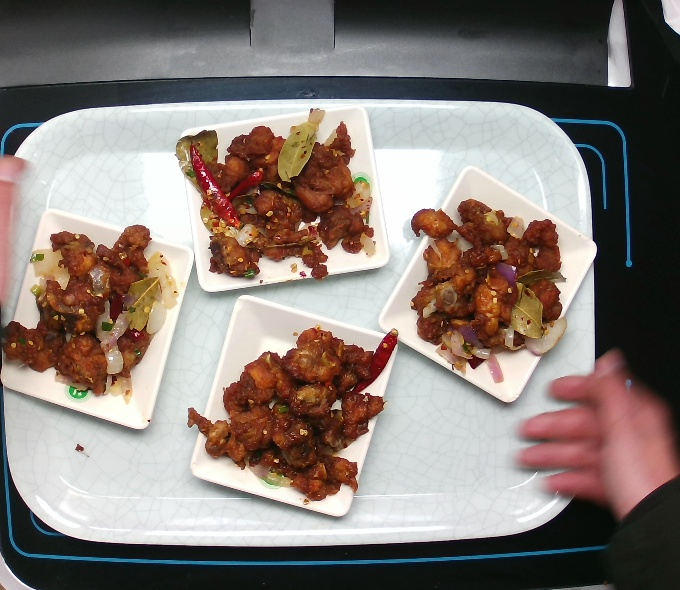wcq-LaZiJiKuai: (182, 325, 401, 506), (175, 104, 378, 283), (1, 223, 180, 401), (409, 194, 571, 385)
